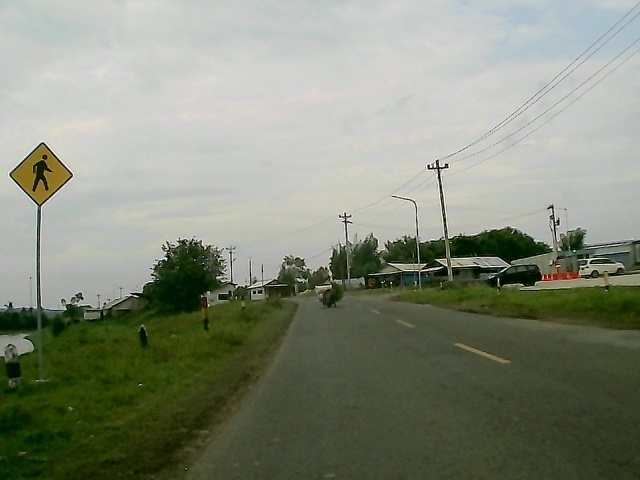Peringatan orang menyeberang: (8, 141, 76, 209)
